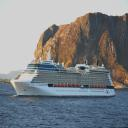cruises: (10, 51, 118, 99)
